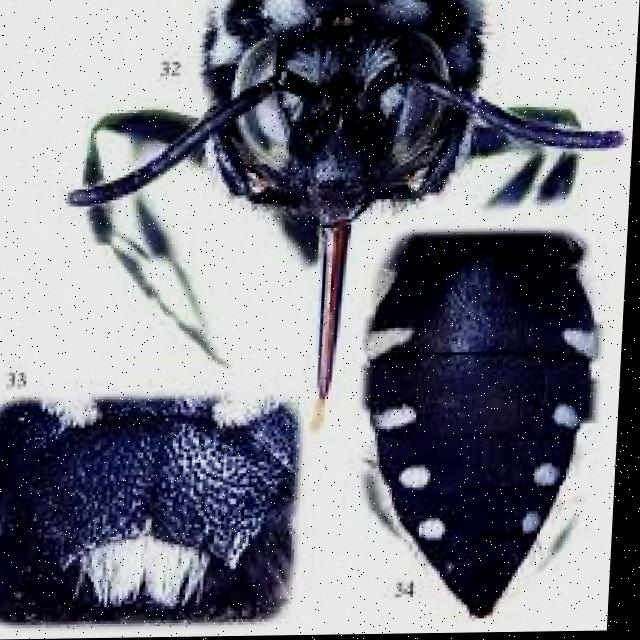Thyreus: (87, 0, 571, 332)
